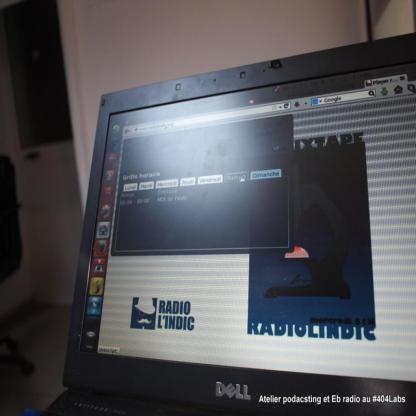board: (43, 29, 416, 416)
